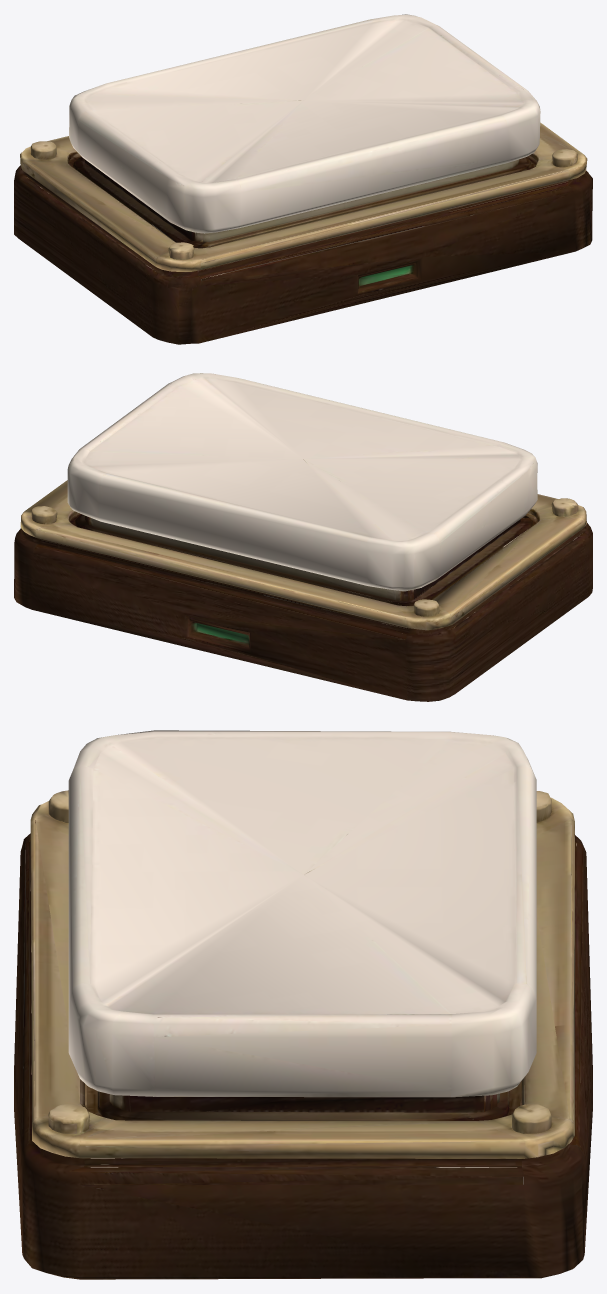
File: command-button-web.glb
The picture shows the model from 3 angles, top to bottom: view 1: azimuth 30°, elevation 25°; view 2: azimuth 150°, elevation 25°; view 3: azimuth 270°, elevation 25°; orthographic projection. The views are drawn at different scales.
Visible parts, largest first — view 1: Mesh_0.002; view 2: Mesh_0.002; view 3: Mesh_0.002.
Boxes of the visible parts, bbox=[...] form: Mesh_0.002: bbox=[14, 14, 592, 344]; Mesh_0.002: bbox=[14, 373, 592, 701]; Mesh_0.002: bbox=[14, 730, 592, 1279].
Size of the model in its own units: 0.1681 by 0.05 by 0.1151.
1 material, 1 textured.
